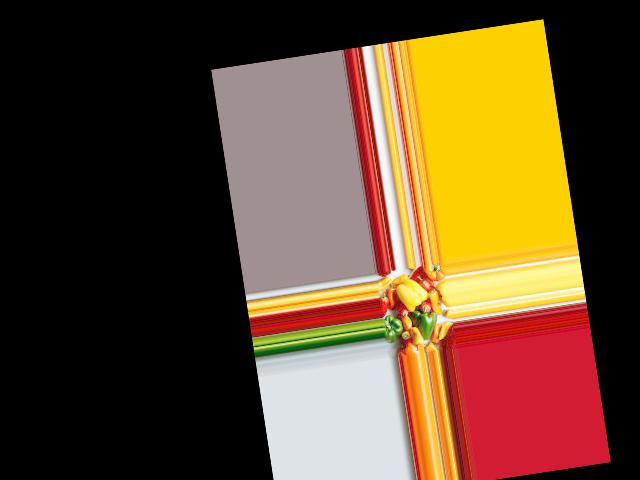bell_pepper: (377, 291, 393, 315)
